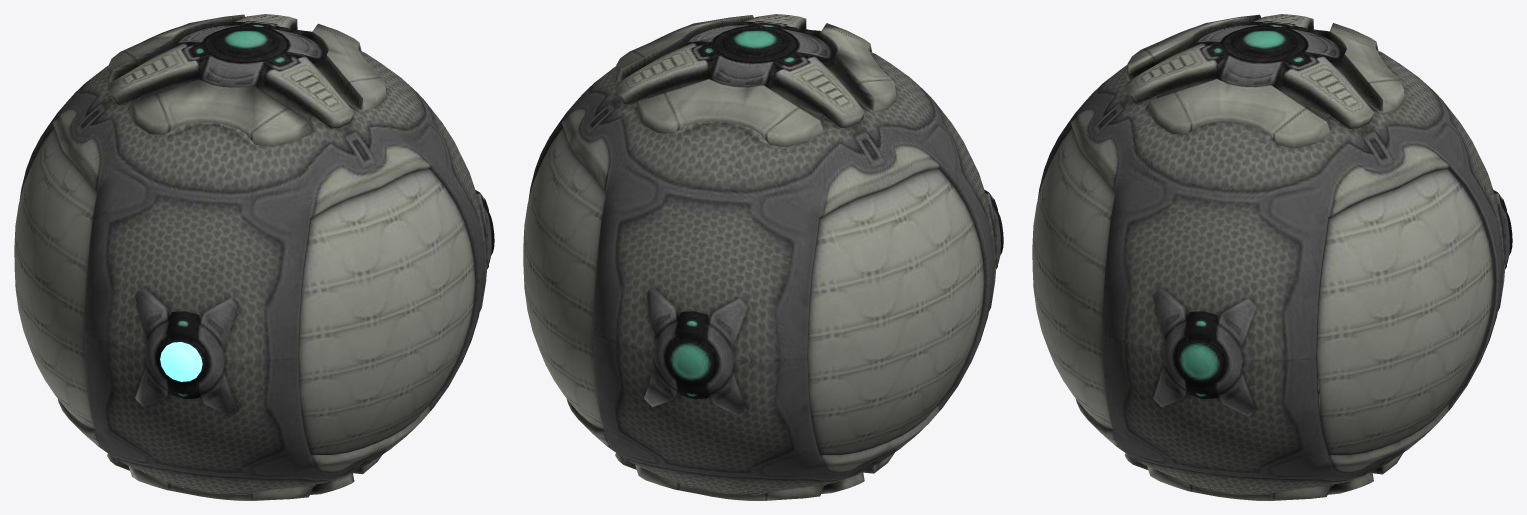
Rendered from ball.glb.
3 renders of one model, left to right at view 1: azimuth 30°, elevation 25°; view 2: azimuth 150°, elevation 25°; view 3: azimuth 270°, elevation 25°, orthographic.
Parts seen in each view (by area): view 1: ball; view 2: ball; view 3: ball.
Part boxes in pixels (<box>): ball: <box>14,14,494,500</box>; ball: <box>523,14,1003,500</box>; ball: <box>1032,14,1512,500</box>.
Bounding box in the file's own units: 5.75 × 5.88 × 5.74.
2 materials, 1 textured.
